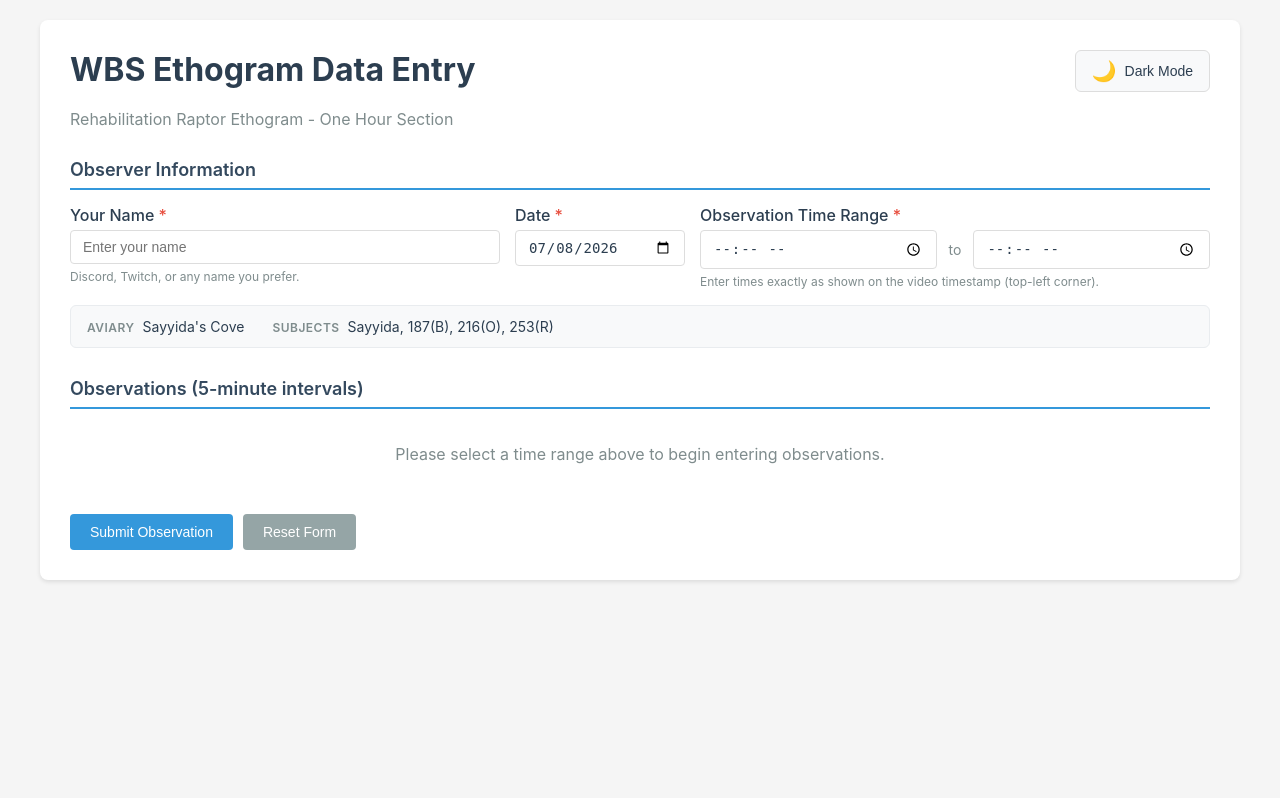
Test: Copy to Next with Validation Integration › allows copy when behavior is selected (no additional fields required)
Type "10:00" into the 1st time field.
click(818, 249); type("10:00")  # box [700,230,937,269]
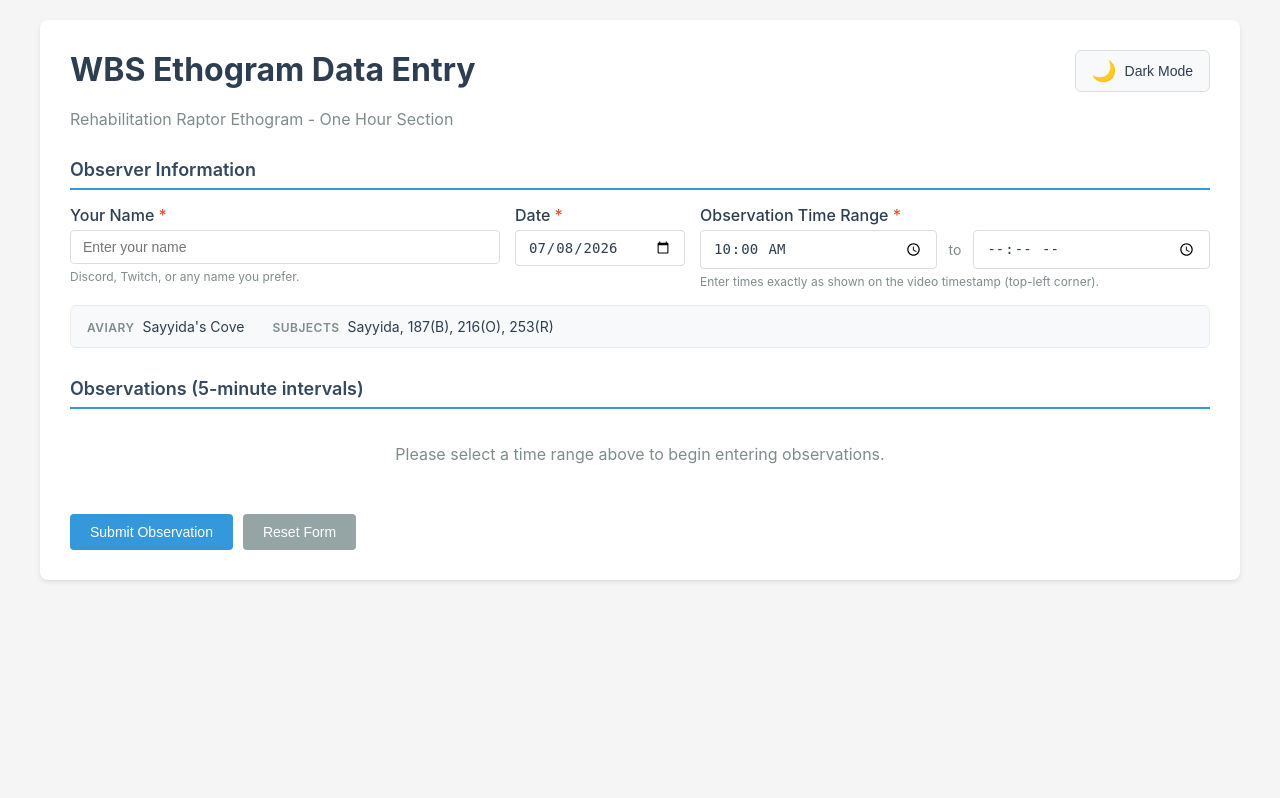
Type "10:10" into the 2nd time field.
click(1092, 249); type("10:10")  # box [973,230,1210,269]
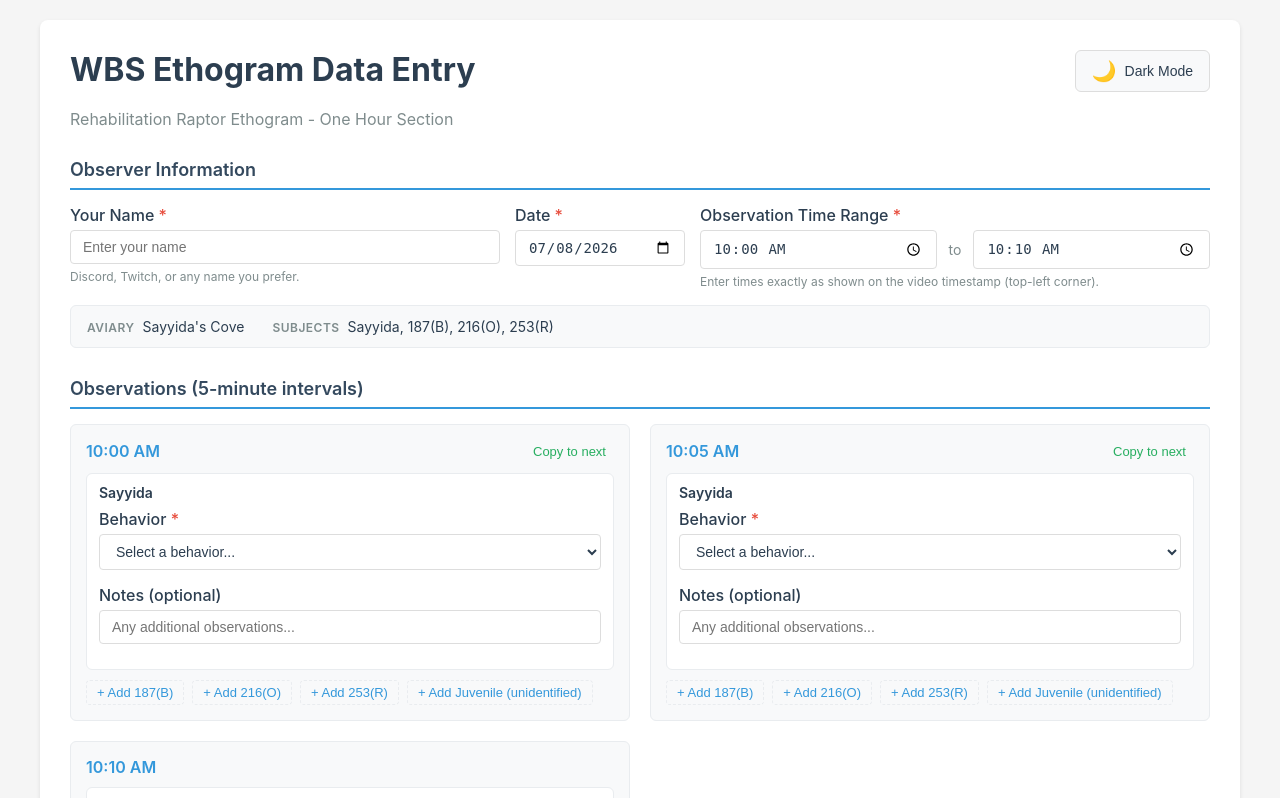
Check: the text "10:00 AM" is shown, box [86,441,160,461]
Select "Drinking" in the dropdown below "10:00 AM" at (350, 552), box [99,534,601,570]
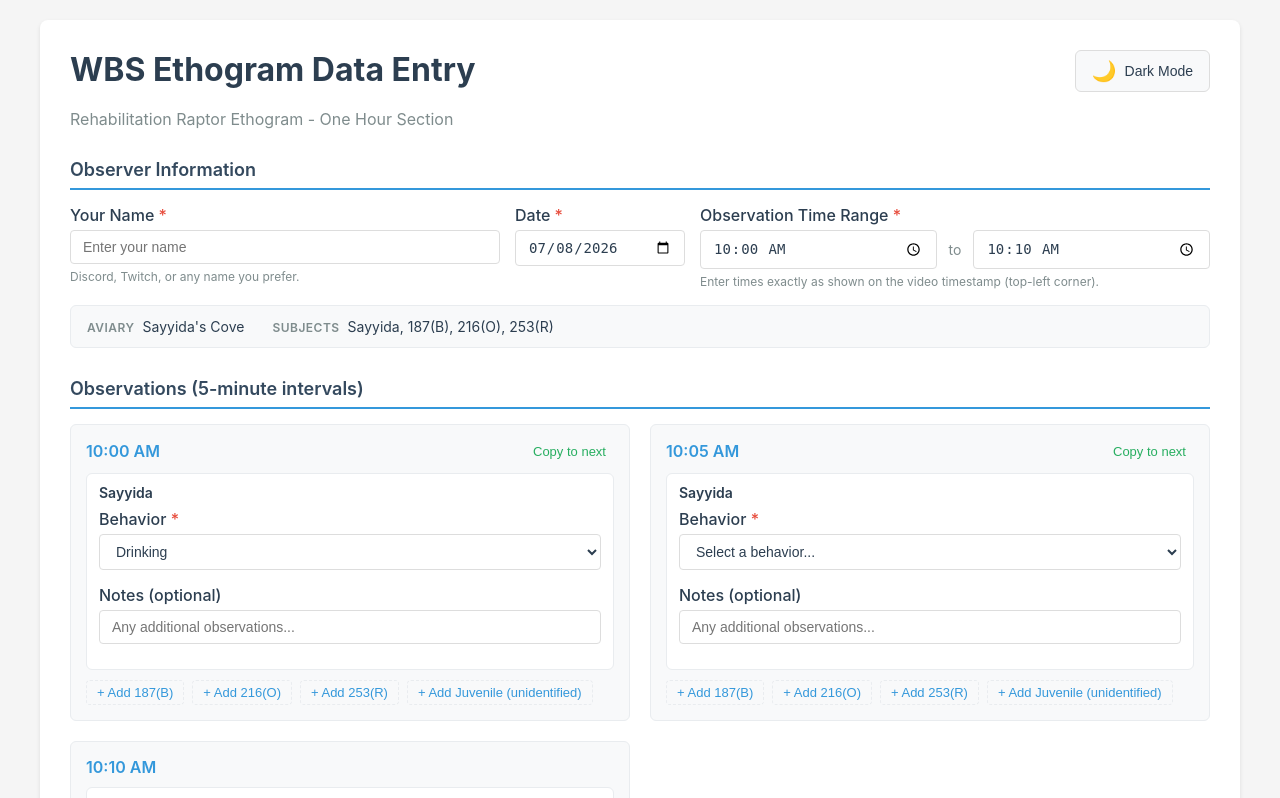
Click the button "Copy to next" in the row of "10:00 AM".
click(570, 451)  # box [525,440,614,463]
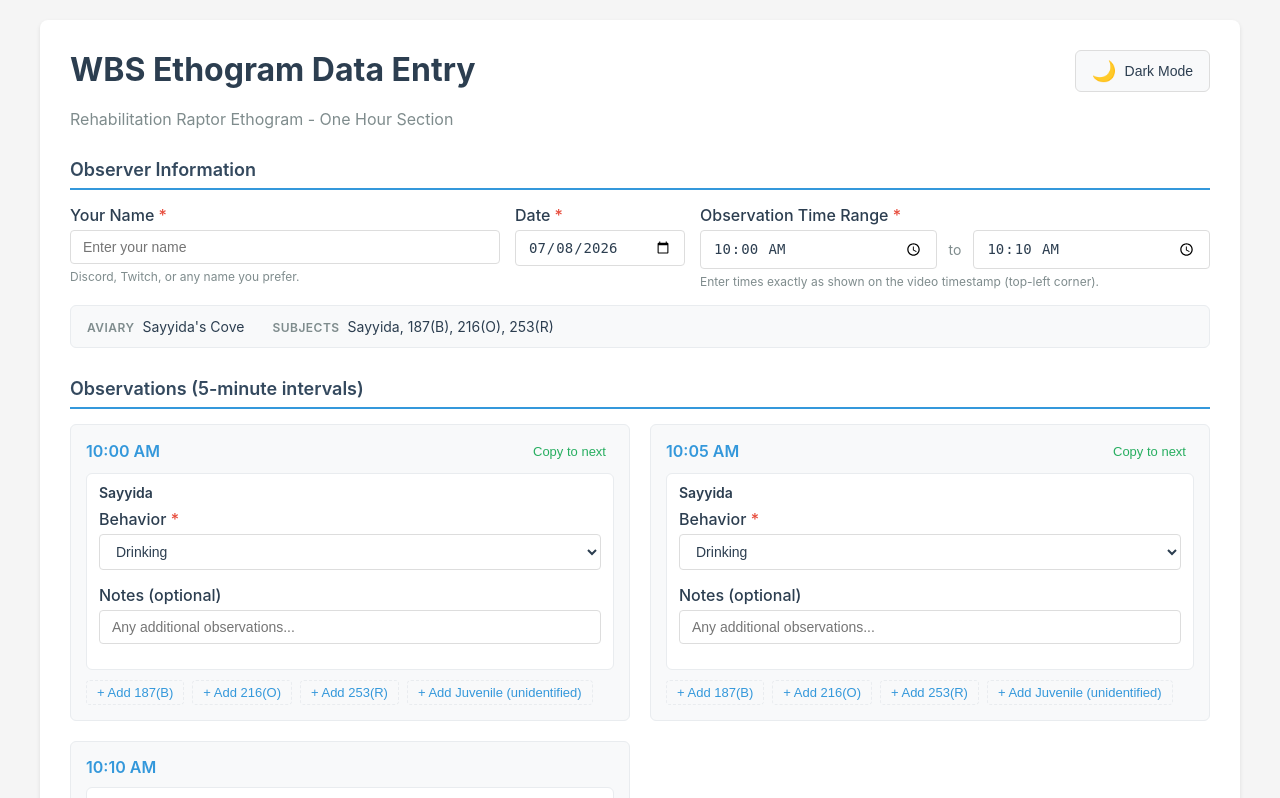
Check: the dropdown below "10:05 AM" shows "Drinking", box [679,534,1181,570]
